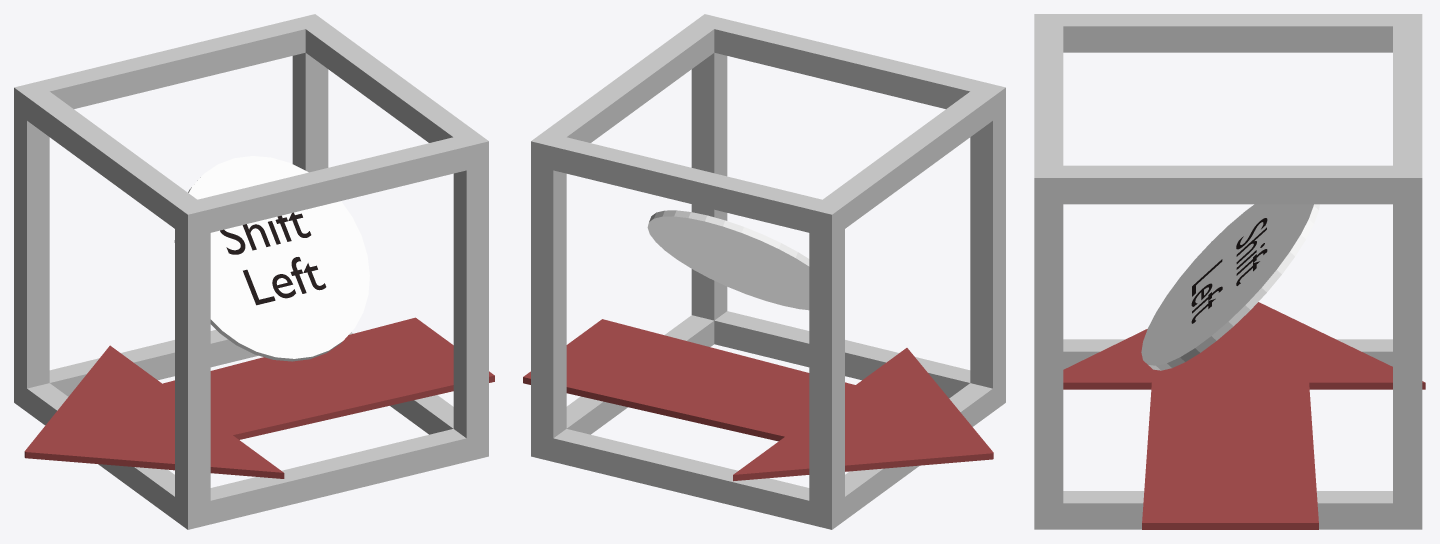
File: MoveLeft.glb
3 views of the same model, side by side, from view 1: azimuth 30°, elevation 25°; view 2: azimuth 150°, elevation 25°; view 3: azimuth 270°, elevation 25° (orthographic). The views are drawn at different scales.
Visible parts, largest first — view 1: Cube, Cube.005, Cylinder.001, Text; view 2: Cube, Cube.005, Cylinder.001; view 3: Cube, Cube.005, Cylinder.001, Text.
Boxes of the visible parts, box(x1,y1,x2,y2) form: Cube: box(14, 14, 488, 529); Cube.005: box(24, 317, 494, 478); Cylinder.001: box(174, 156, 369, 361); Text: box(220, 212, 326, 305); Cube: box(531, 14, 1005, 529); Cube.005: box(523, 319, 993, 481); Cylinder.001: box(647, 210, 809, 310); Cube: box(1034, 14, 1422, 529); Cube.005: box(1063, 302, 1425, 529); Cylinder.001: box(1141, 204, 1319, 370); Text: box(1191, 218, 1267, 323).
Size of the model in its own units: 2.86 by 2 by 2.02.
